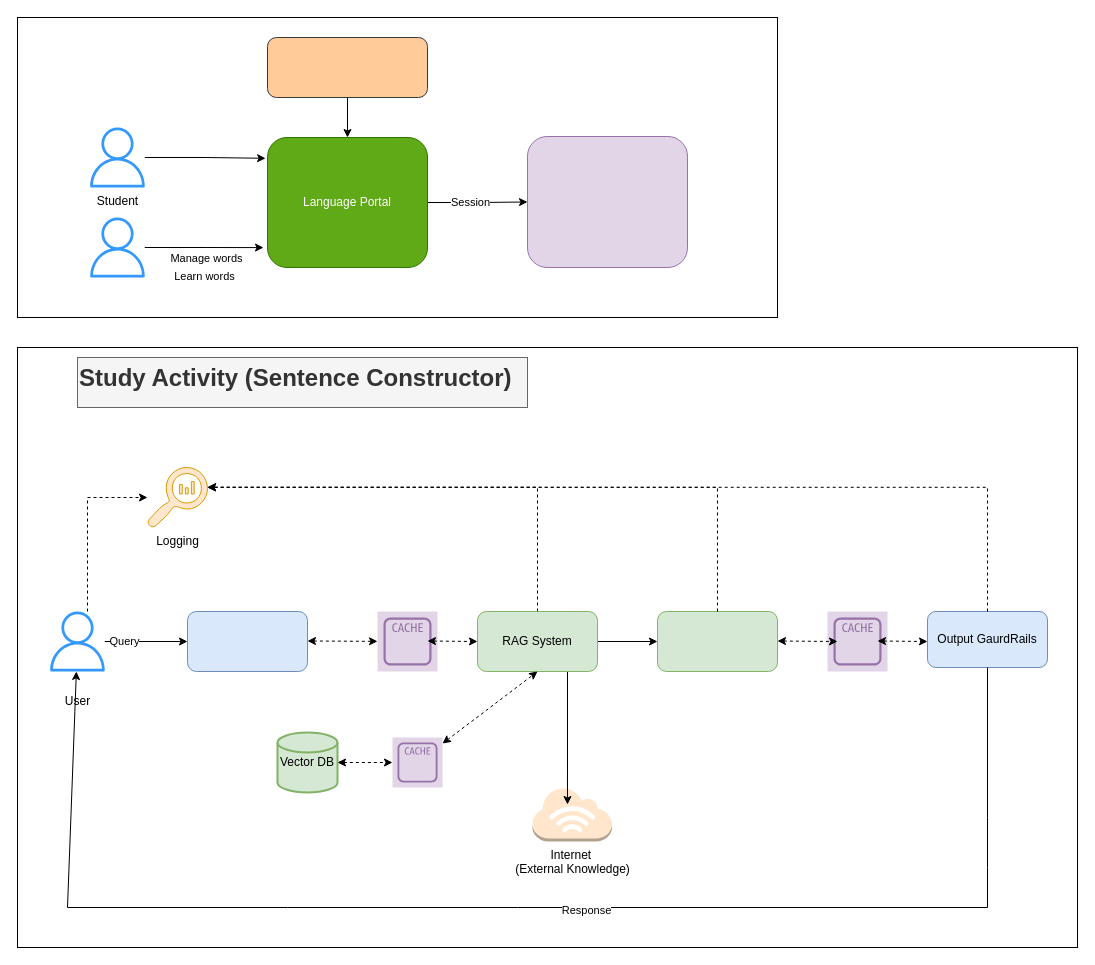
The diagram is 1095 pixels wide and 965 high, and some of its shapes have lost their labels. The centre of each missing label's shape, as x and y in pixels:
"Database (2k Words)" goes at pixel 347 67.
"Input GaurdRails" goes at pixel 247 641.
"Model API (LLM)" goes at pixel 717 641.
"Study Activities System" goes at pixel 607 202.
"Teacher" goes at pixel 117 247.
